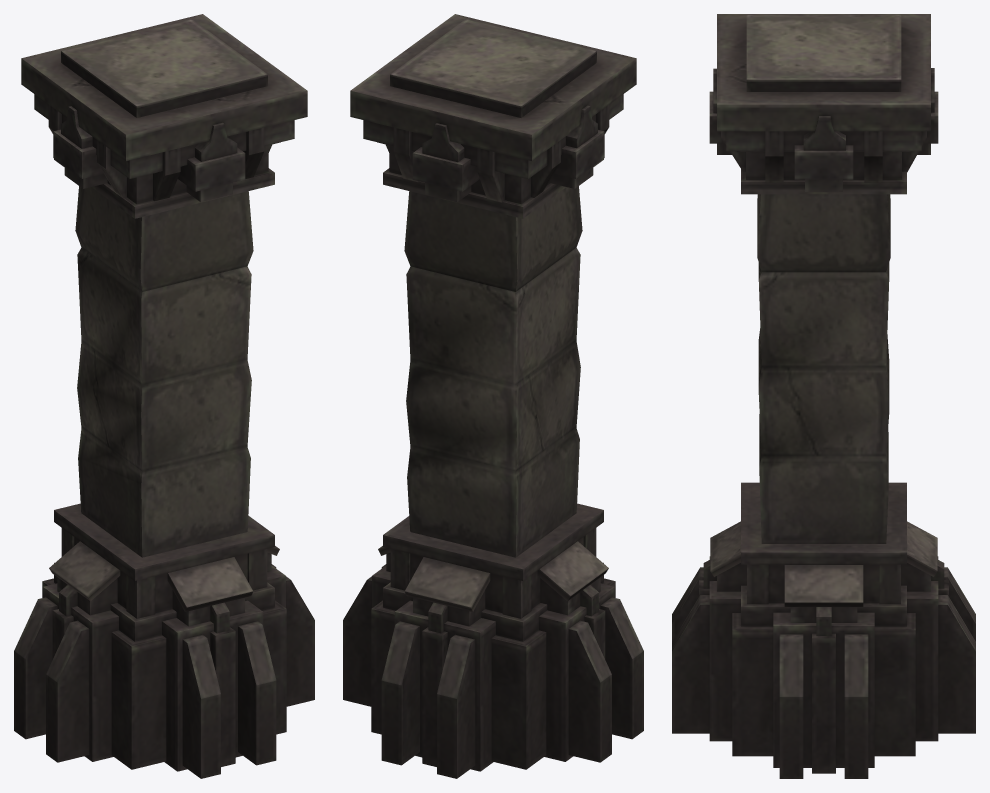
Rendered from jianzhu07.FBX.
3 renders of one model, left to right at view 1: azimuth 30°, elevation 25°; view 2: azimuth 150°, elevation 25°; view 3: azimuth 270°, elevation 25°, orthographic. The views are drawn at different scales.
Parts seen in each view (by area): view 1: polySurface934; view 2: polySurface934; view 3: polySurface934.
Boxes of the visible parts, <box> form: polySurface934: <box>14,14,314,778</box>; polySurface934: <box>343,14,643,778</box>; polySurface934: <box>672,14,975,778</box>.
Bounding box in the file's own units: 21.38 × 52.3 × 21.38.
